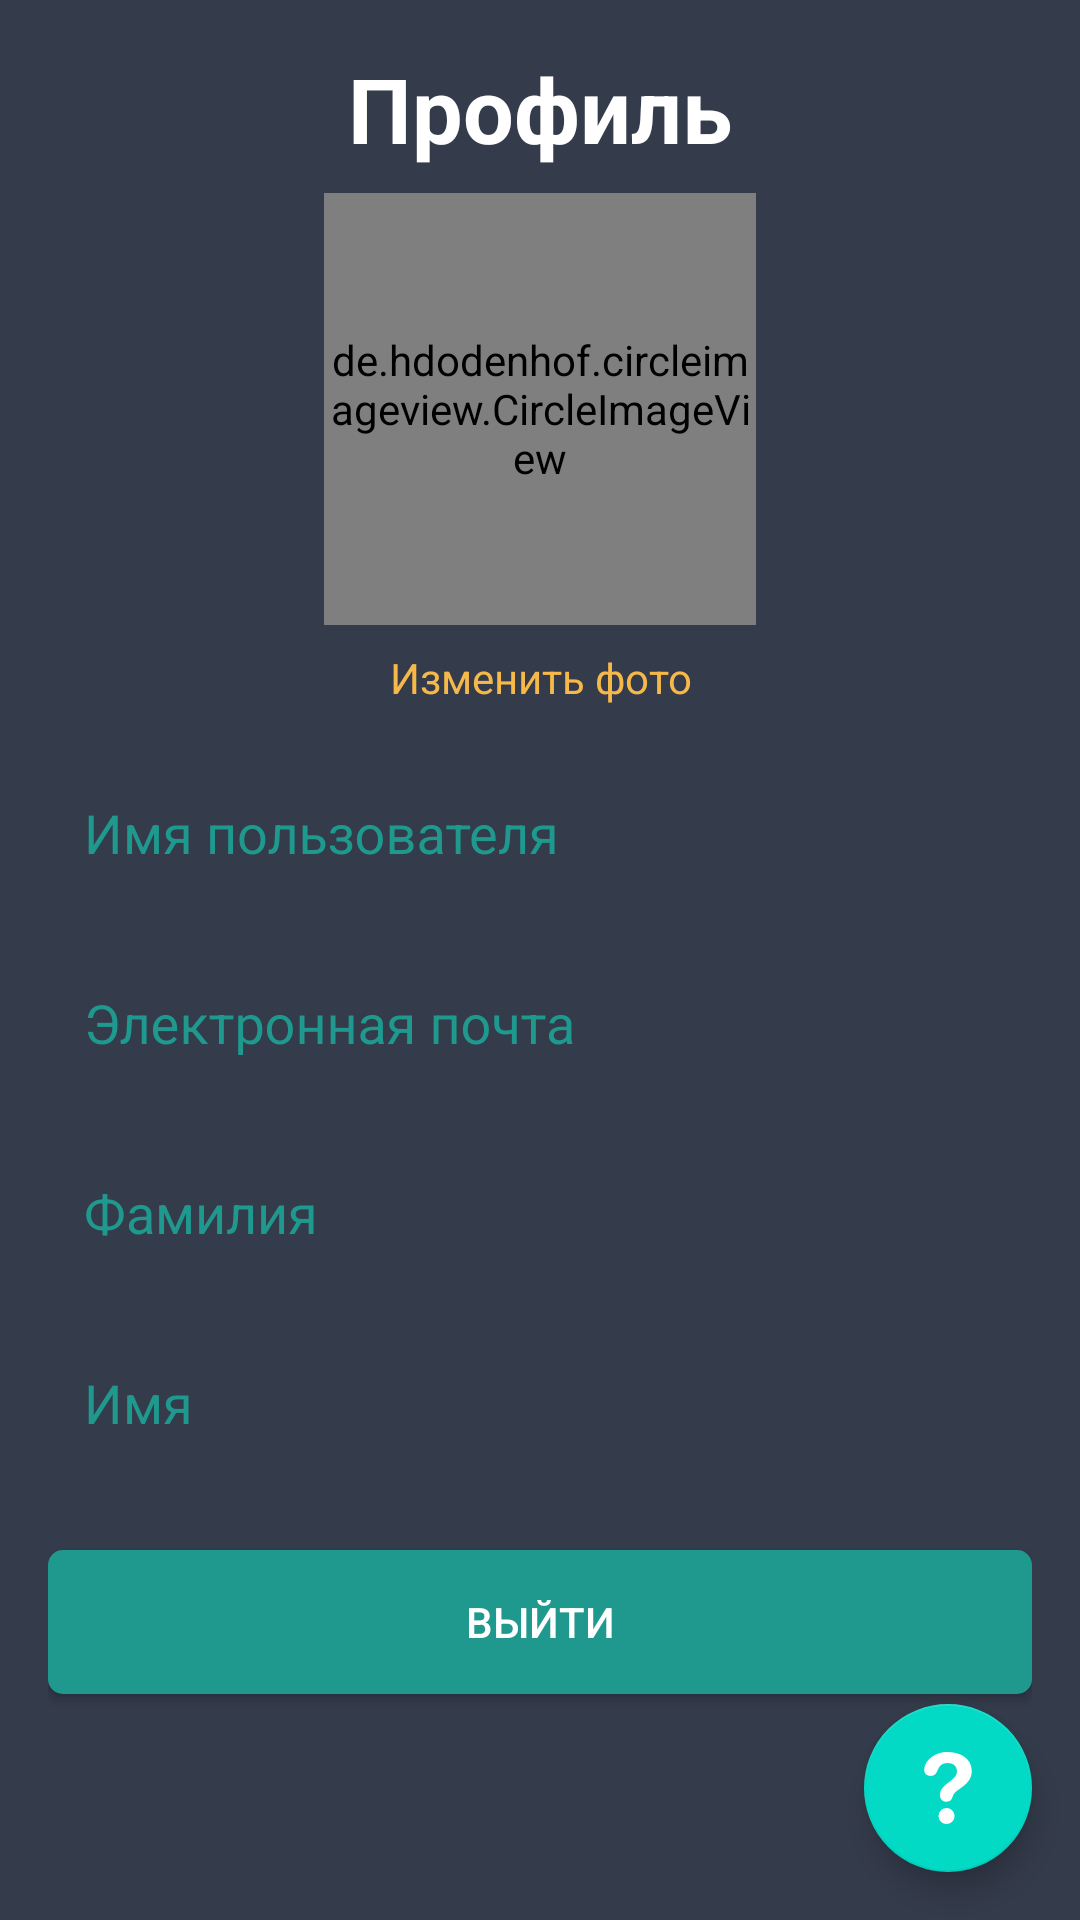

Icons on this 1080×1920 Android screen, each with its box as [left=x1, top=y1, right=x2, bottom=y2]:
question: [left=864, top=1704, right=1032, bottom=1872]
